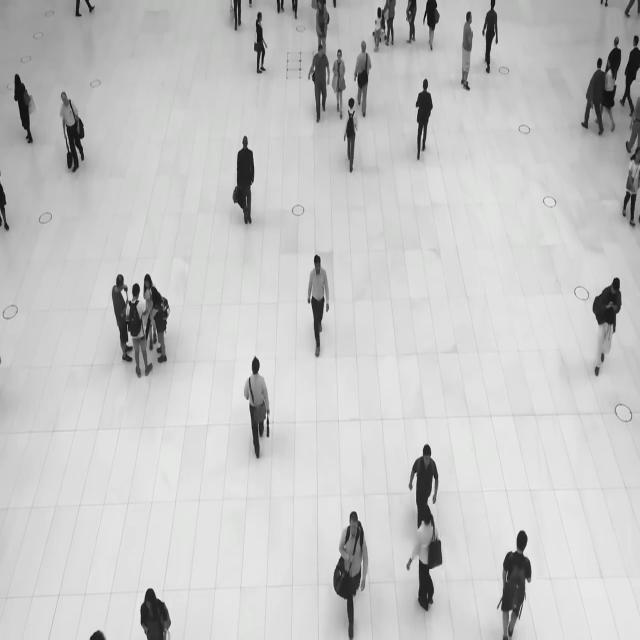Persona: (332, 501, 370, 640), (495, 525, 539, 640), (405, 499, 444, 614), (587, 273, 625, 389), (243, 346, 274, 469), (303, 247, 334, 366), (231, 131, 260, 236), (56, 89, 89, 179), (137, 574, 178, 640), (408, 425, 442, 502), (11, 66, 39, 151), (412, 75, 437, 170), (127, 277, 149, 379), (110, 262, 130, 366), (308, 43, 331, 130), (150, 280, 172, 366), (458, 8, 476, 98), (584, 54, 602, 138), (622, 144, 640, 227), (480, 0, 498, 83), (252, 7, 270, 81), (356, 36, 372, 119), (342, 89, 360, 162), (624, 27, 640, 101), (603, 57, 618, 129), (333, 42, 347, 116), (373, 4, 384, 52)
